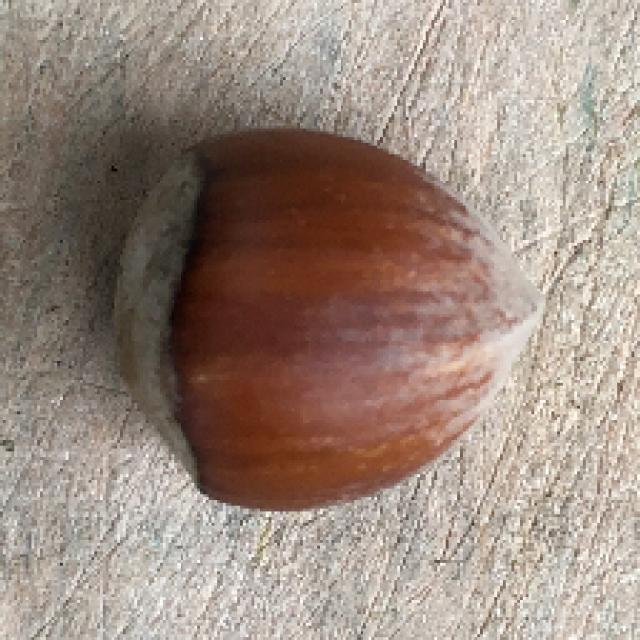QualityHazelnut: (115, 124, 549, 508)
